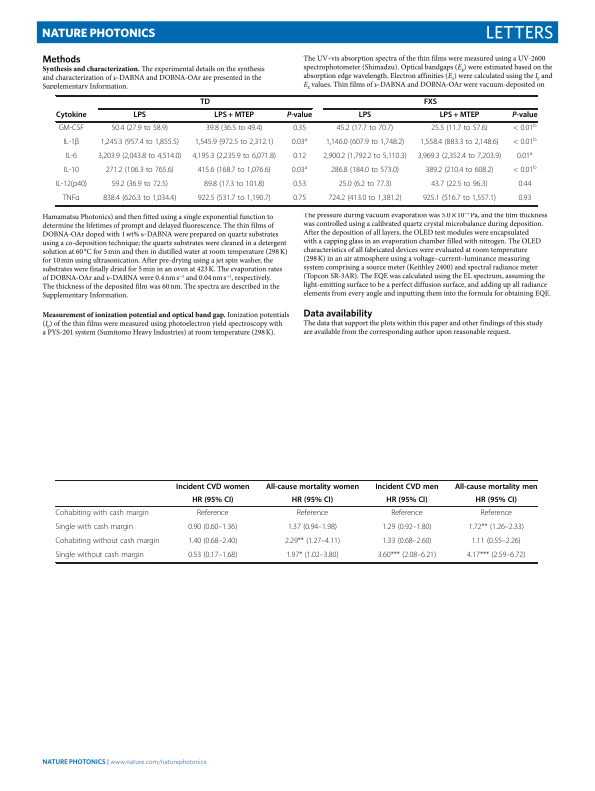borderless: (54, 94, 537, 205), (54, 478, 537, 562)
cell: (54, 536, 160, 546), (54, 508, 150, 518), (55, 550, 145, 560), (191, 152, 277, 162), (322, 152, 408, 162), (265, 482, 360, 491), (97, 152, 182, 162), (417, 152, 502, 162), (54, 522, 134, 532), (100, 138, 180, 148), (194, 138, 274, 148), (325, 138, 405, 148), (419, 138, 499, 148), (454, 482, 538, 491), (197, 166, 272, 176), (102, 194, 177, 204), (197, 194, 272, 204), (327, 194, 402, 204), (422, 194, 497, 204), (105, 166, 175, 176), (330, 166, 400, 176), (424, 166, 494, 176), (175, 482, 250, 491), (203, 180, 265, 190), (377, 550, 437, 560), (466, 550, 526, 560), (110, 124, 169, 134), (430, 124, 489, 134), (110, 180, 169, 190), (430, 180, 489, 190), (374, 482, 439, 491), (205, 124, 263, 134), (336, 124, 394, 134), (468, 522, 525, 532), (284, 536, 341, 546), (285, 550, 339, 560), (338, 180, 392, 190), (187, 522, 238, 532), (287, 522, 338, 532), (381, 522, 432, 532), (187, 536, 238, 546), (381, 536, 432, 546), (471, 536, 522, 546), (187, 550, 238, 560), (191, 495, 234, 505), (291, 495, 334, 505), (385, 495, 428, 505), (475, 495, 518, 505), (213, 111, 255, 121), (439, 111, 480, 121), (390, 508, 424, 518), (479, 508, 513, 518), (196, 508, 229, 518), (296, 508, 329, 518), (55, 180, 88, 190), (55, 111, 87, 121), (512, 123, 537, 134), (512, 137, 537, 148), (512, 165, 537, 176), (286, 111, 313, 121), (511, 111, 538, 121), (58, 124, 85, 134), (291, 137, 308, 148), (516, 151, 533, 162), (291, 165, 308, 176), (62, 138, 80, 148), (62, 194, 80, 204), (63, 166, 80, 176), (132, 111, 147, 121), (292, 124, 307, 134), (292, 152, 307, 162), (292, 180, 307, 190), (517, 180, 532, 190), (292, 194, 307, 204), (517, 194, 532, 204), (358, 111, 372, 121), (64, 152, 78, 162), (423, 98, 438, 107), (199, 98, 211, 107)
